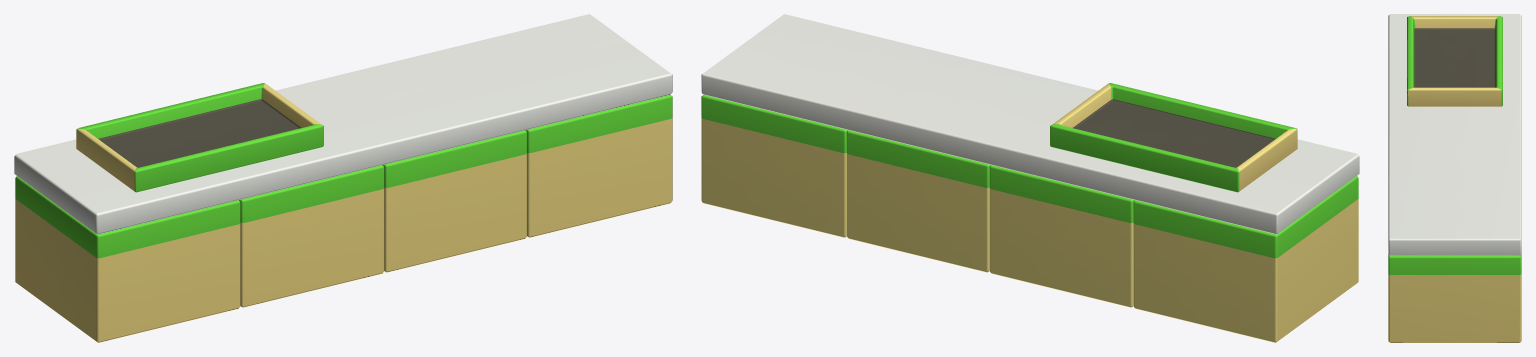
File: Package_Sandwich.fbx
3 renders of one model, left to right at view 1: azimuth 30°, elevation 25°; view 2: azimuth 150°, elevation 25°; view 3: azimuth 270°, elevation 25°, orthographic. The views are drawn at different scales.
Visible parts, largest first — view 1: Package_Sandwich; view 2: Package_Sandwich; view 3: Package_Sandwich.
Boxes of the visible parts, x1,y1,x2,y2 form: Package_Sandwich: (14,14,672,342); Package_Sandwich: (701,14,1359,342); Package_Sandwich: (1388,14,1521,342).
Size of the model in its own units: 401 by 101 by 100.
